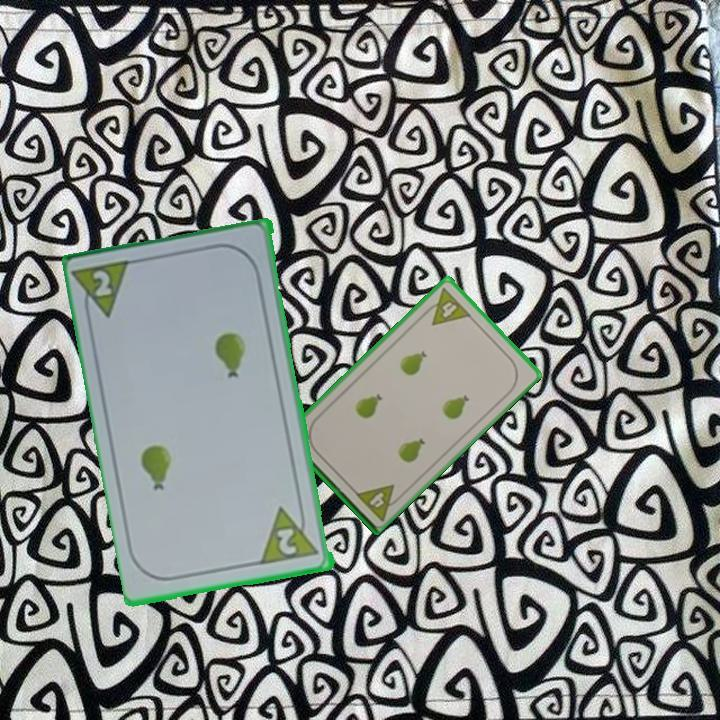2p: (72, 256, 137, 326), (274, 525, 301, 558)
4p: (419, 284, 474, 328), (351, 481, 405, 523)
